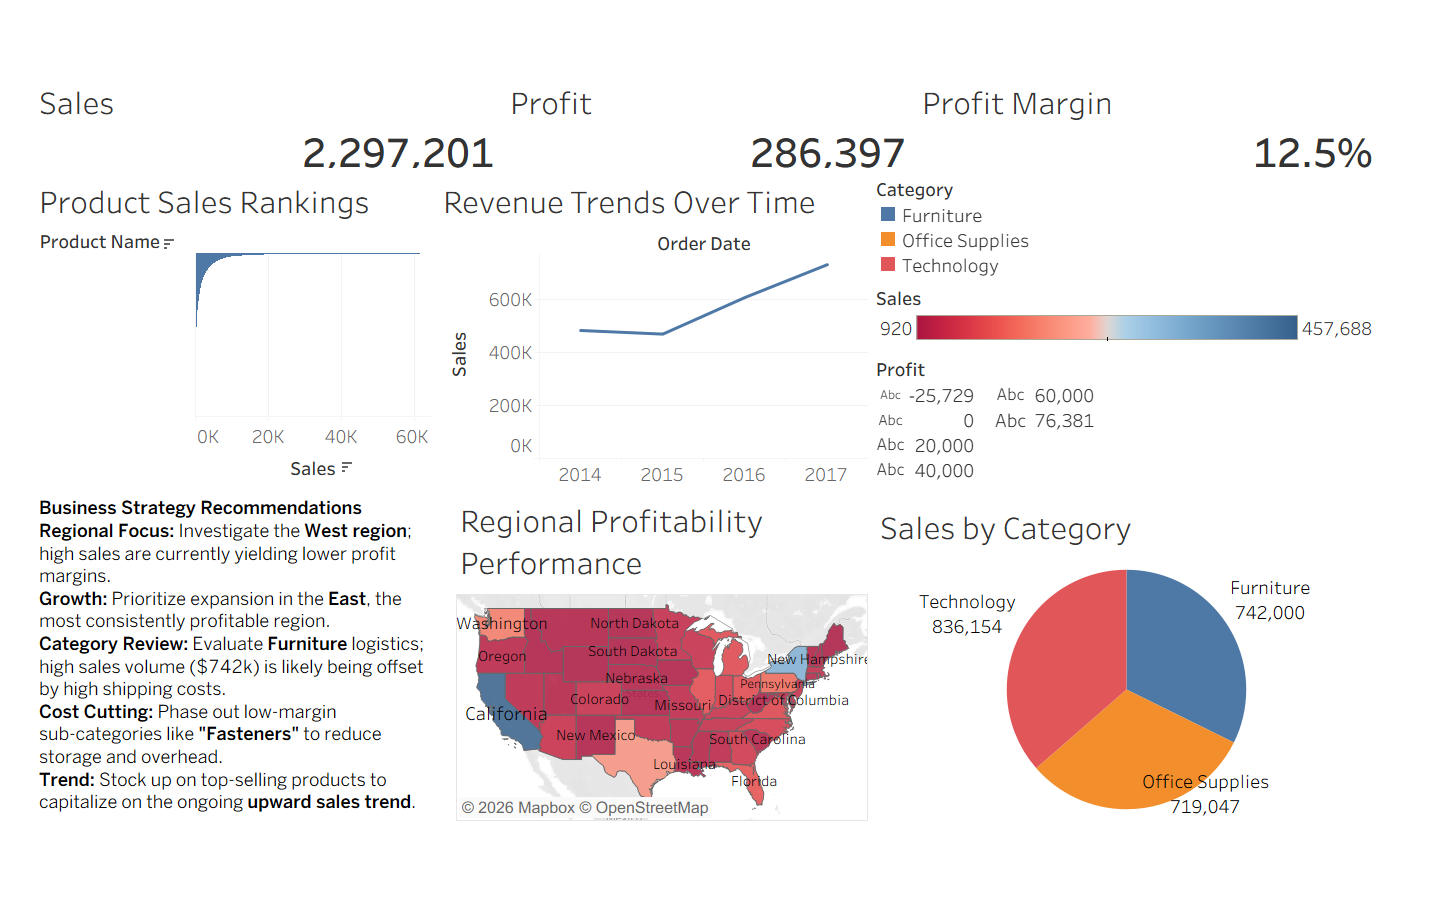

The dashboard page shown, as its layout file describes it:
{"tool":"tableau","page":{"name":"Dashboard 1","canvas":[1366,768],"ordinal":0},"visuals":[{"type":"worksheet","title":"Sales","mark":"Automatic","box":[8,8,421,99]},{"type":"worksheet","title":"Profit","mark":"Automatic","box":[429,8,420,99]},{"type":"worksheet","title":"Profit Margin","mark":"Automatic","box":[849,8,509,99]},{"type":"worksheet","title":"Product Sales Rankings","mark":"Automatic","rows":["Product Name"],"cols":["Sales"],"box":[8,107,421,319]},{"type":"worksheet","title":"Revenue Trends Over Time","mark":"Automatic","rows":["Sales"],"cols":["Order Date"],"box":[429,107,420,319]},{"type":"legend","title":"Sales by Category","param":"[federated.001sw8r16ukdu51f1y8420t58hgd].[none:Category:nk]","box":[849,107,509,109]},{"type":"legend","title":"Regional Profitability Performance","param":"[federated.001sw8r16ukdu51f1y8420t58hgd].[sum:Sales:qk]","box":[849,216,509,71]},{"type":"legend","title":"Regional Profitability Performance","param":"[federated.001sw8r16ukdu51f1y8420t58hgd].[sum:Profit:qk]","box":[849,287,509,146.5]},{"type":"text","box":[8,426,420.5,334]},{"type":"worksheet","title":"Regional Profitability Performance","mark":"Multipolygon","box":[428.5,426,420.5,334]},{"type":"worksheet","title":"Sales by Category","mark":"Pie","box":[849,433.5,509,326.5]}]}

Visuals, with their boxes on the page's 1366x768 design canvas (x1, y1, x2, y2). These are canvas units, not pixel positions in the 1436x912 screenshot, which may show the page scaled, cropped or inside an application window:
"Sales" worksheet: (8, 8, 429, 107)
"Profit" worksheet: (429, 8, 849, 107)
"Profit Margin" worksheet: (849, 8, 1358, 107)
"Product Sales Rankings" worksheet: (8, 107, 429, 426)
"Revenue Trends Over Time" worksheet: (429, 107, 849, 426)
"Sales by Category" legend: (849, 107, 1358, 216)
"Regional Profitability Performance" legend: (849, 216, 1358, 287)
"Regional Profitability Performance" legend: (849, 287, 1358, 434)
text: (8, 426, 428, 760)
"Regional Profitability Performance" worksheet (Multipolygon marks): (428, 426, 849, 760)
"Sales by Category" worksheet (Pie marks): (849, 434, 1358, 760)
